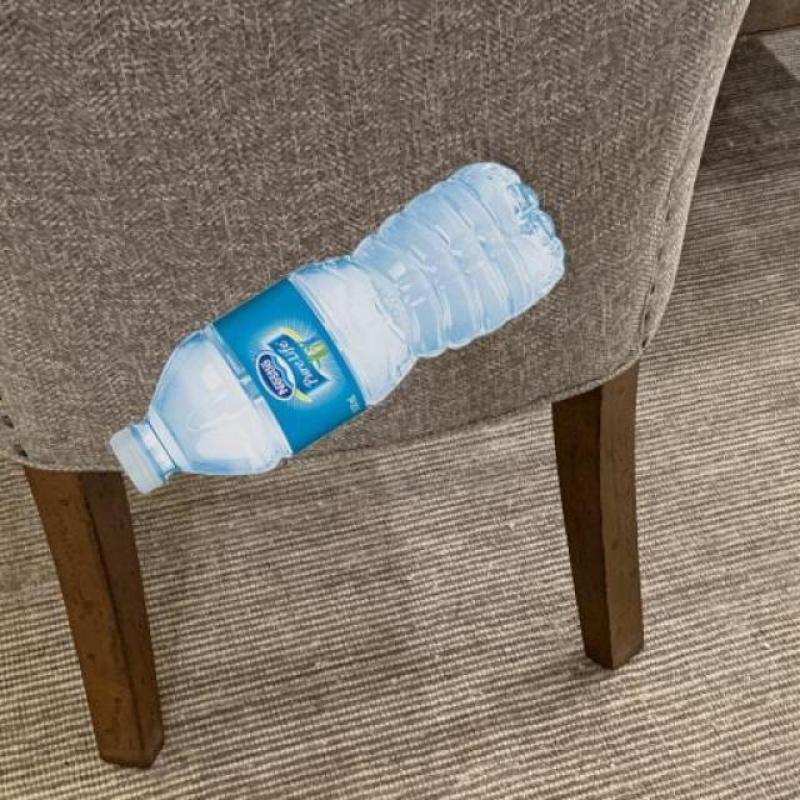botella: (103, 161, 567, 494)
